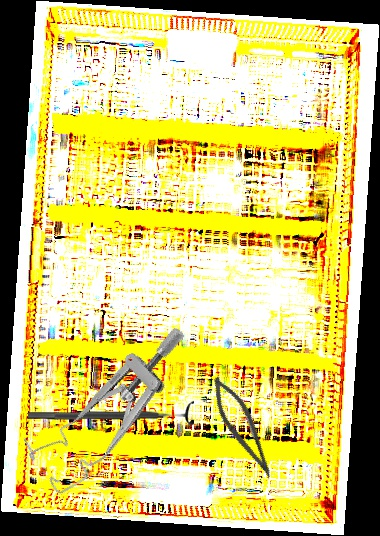Fixation Ring: (27, 399, 195, 430)
Micro Scissor: (200, 371, 287, 484)
Speculum: (10, 324, 222, 499)
